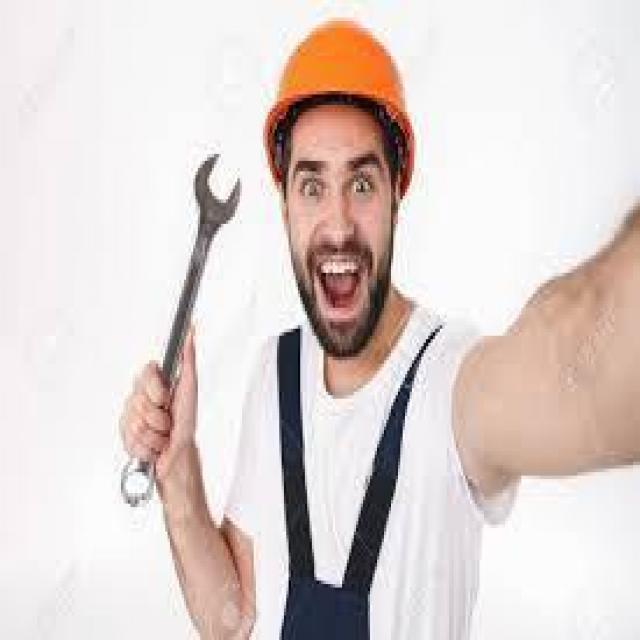hat: (260, 17, 416, 172)
